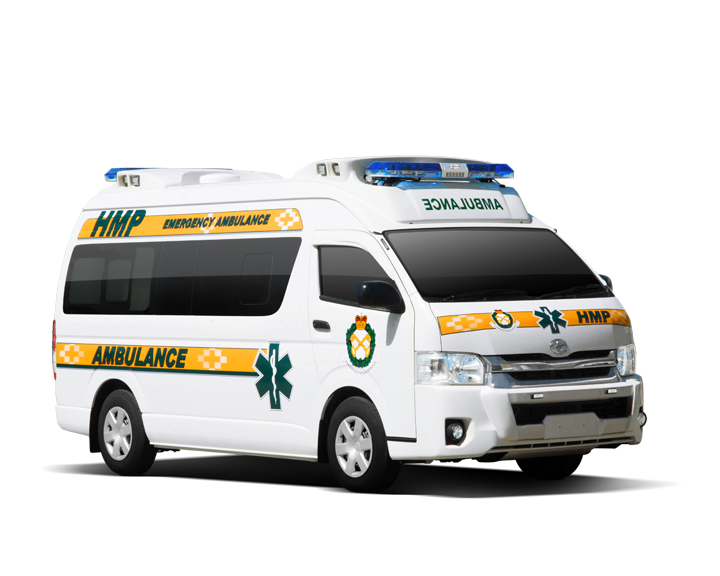van: (48, 156, 650, 495)
